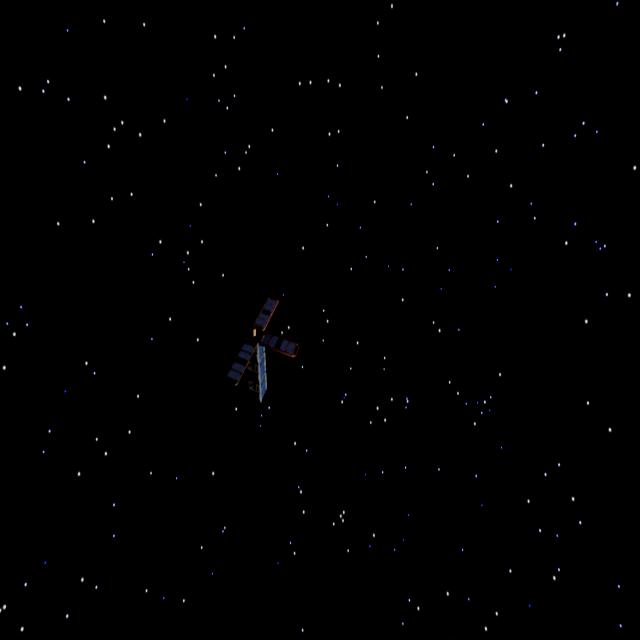medium_debris: (216, 292, 306, 411)
